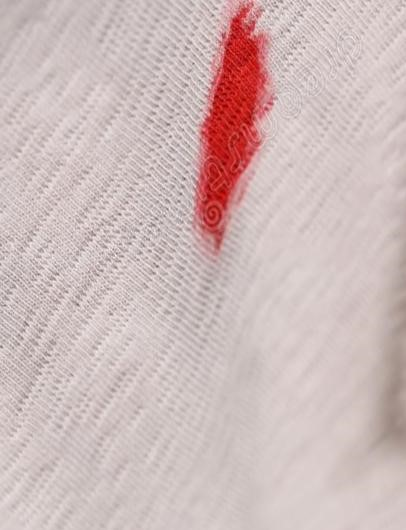stain: (198, 1, 285, 258)
